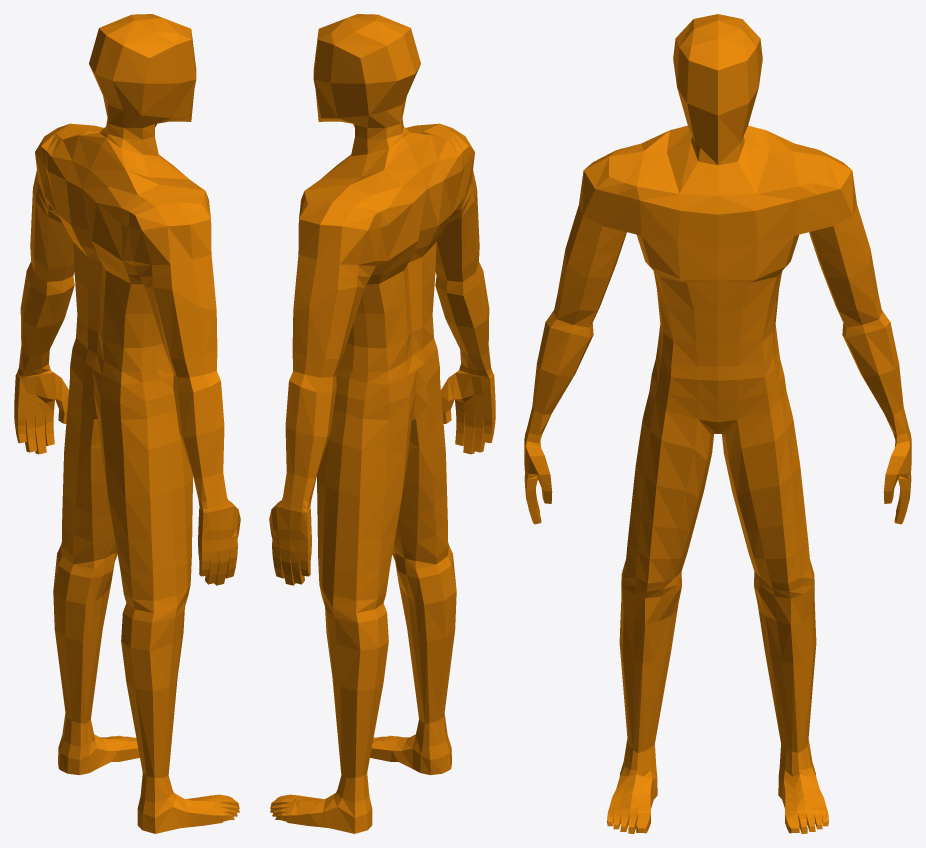
File: lowpoly_human.dae
3 views of the same model, side by side, from view 1: azimuth 30°, elevation 25°; view 2: azimuth 150°, elevation 25°; view 3: azimuth 270°, elevation 25° (orthographic).
Parts seen in each view (by area): view 1: SimpleBody; view 2: SimpleBody; view 3: SimpleBody.
Part boxes in pixels (<box>): SimpleBody: <box>14,14,240,833</box>; SimpleBody: <box>269,14,495,833</box>; SimpleBody: <box>524,14,911,833</box>.
Bounding box in the file's own units: 0.3095 × 0.8883 × 1.98.
